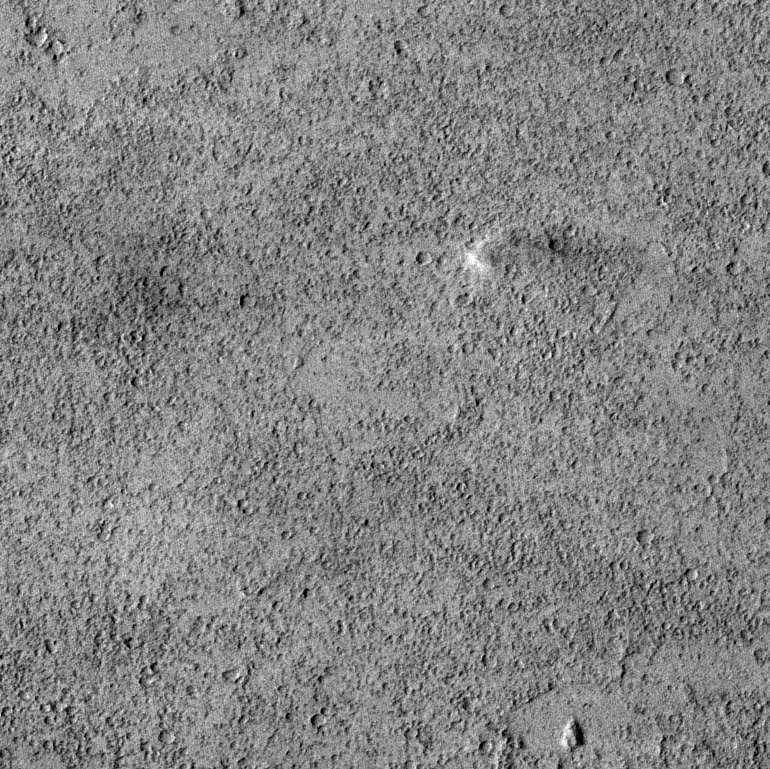dust_devil: (462, 220, 647, 277)
